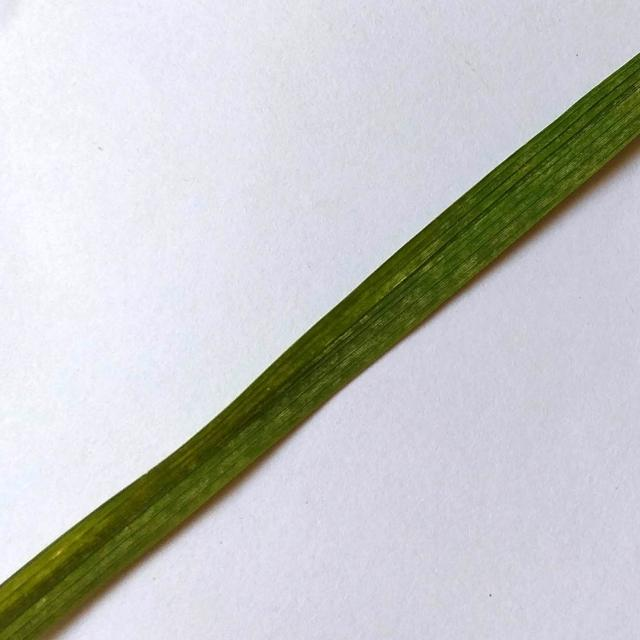Rice_Healthy: (0, 54, 640, 640)
